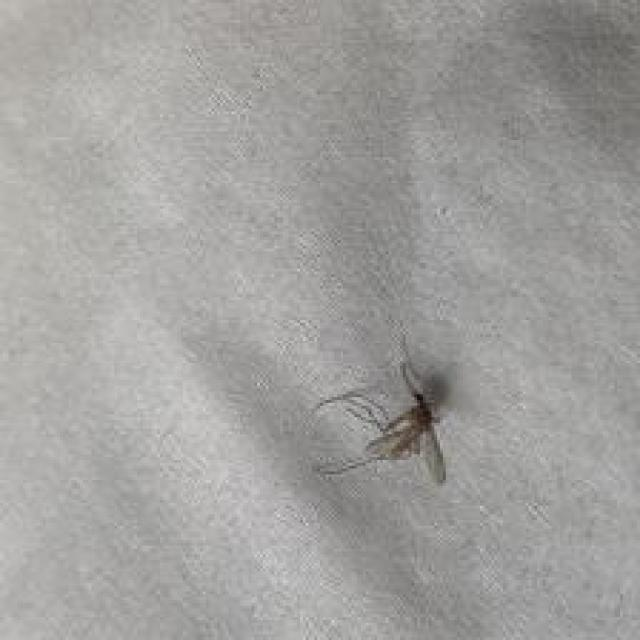Culex: (310, 333, 450, 487)
